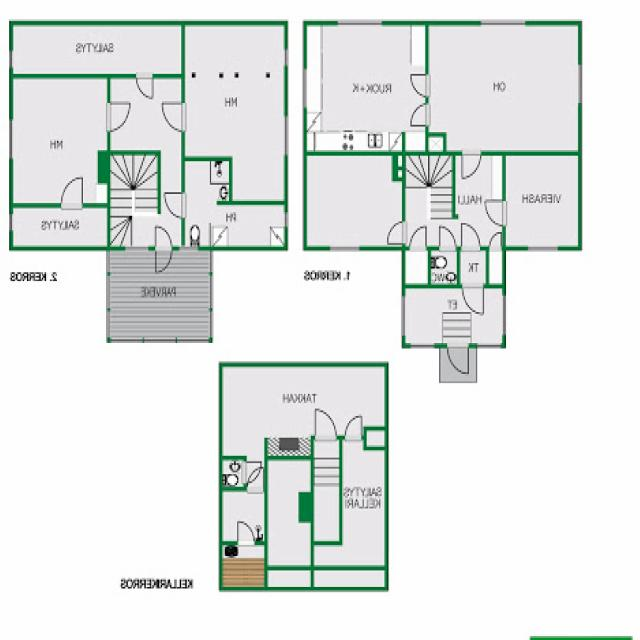door: (446, 344, 469, 380), (160, 104, 186, 132), (462, 285, 484, 317), (316, 408, 337, 441), (107, 104, 131, 132), (61, 176, 82, 207), (482, 200, 506, 227), (462, 149, 482, 181), (162, 193, 186, 219), (462, 221, 481, 250), (135, 74, 154, 102), (408, 222, 426, 250), (344, 414, 362, 441), (385, 221, 406, 244), (409, 103, 429, 127), (156, 246, 173, 274), (156, 223, 173, 251), (409, 75, 429, 98), (238, 518, 255, 545), (439, 224, 456, 250), (244, 462, 262, 483), (247, 468, 262, 492), (489, 232, 501, 250)
